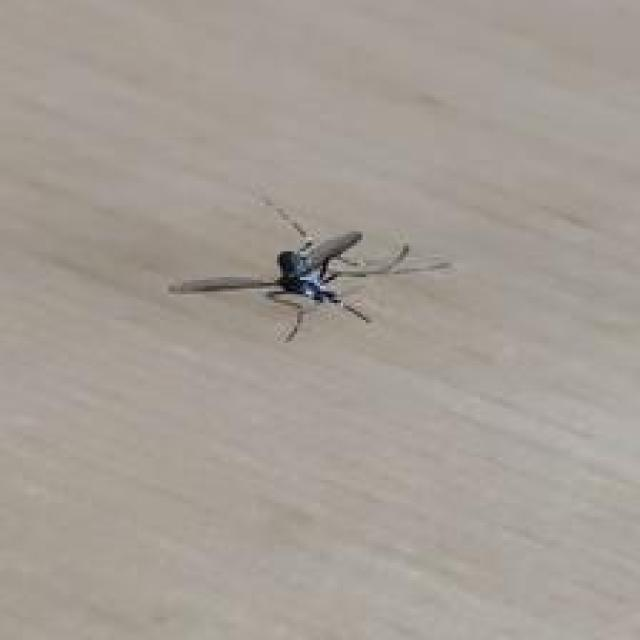Aedes albopictus: (166, 187, 454, 344)
